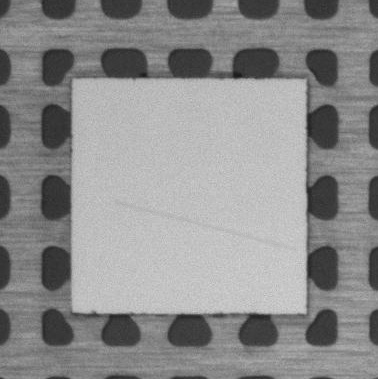DIE_CRACK: (116, 203, 294, 250)
